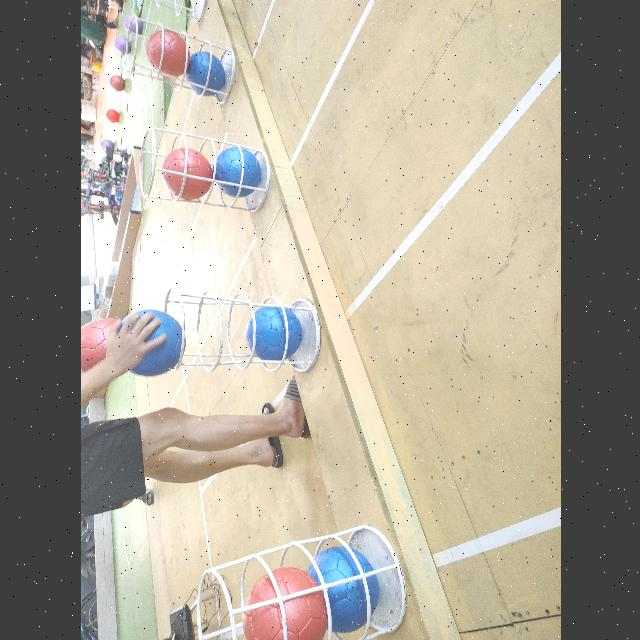B: (324, 548, 380, 632), (245, 306, 303, 362), (214, 147, 260, 197), (188, 51, 224, 97)
R: (241, 566, 325, 640), (161, 148, 211, 202), (146, 30, 187, 78)
